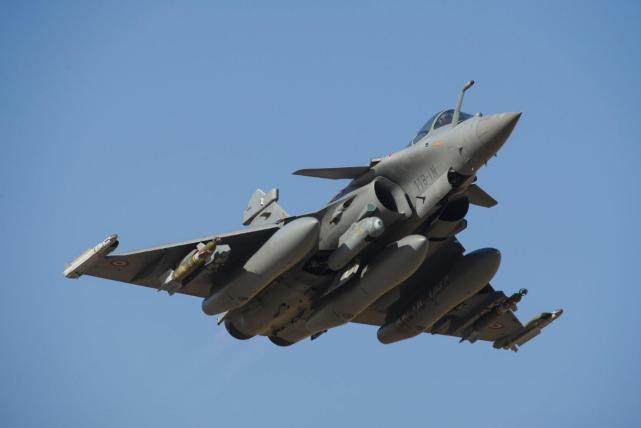airplane: (60, 80, 567, 355)
